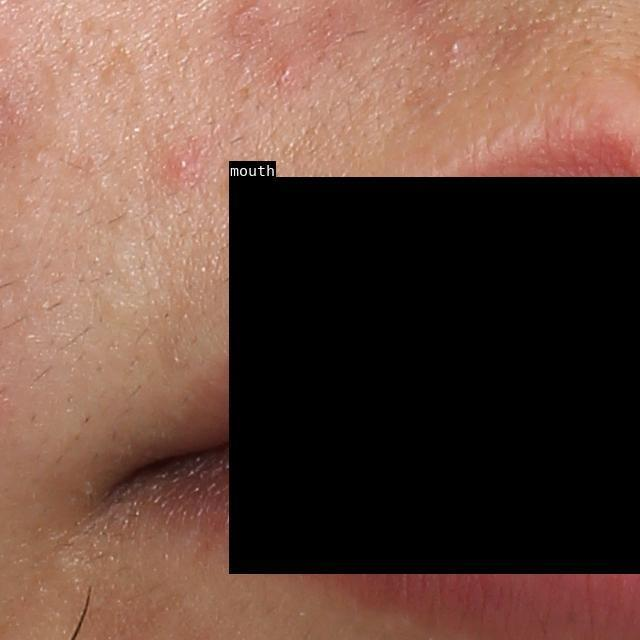comedo: (445, 32, 471, 57)
papule: (276, 61, 294, 84)
